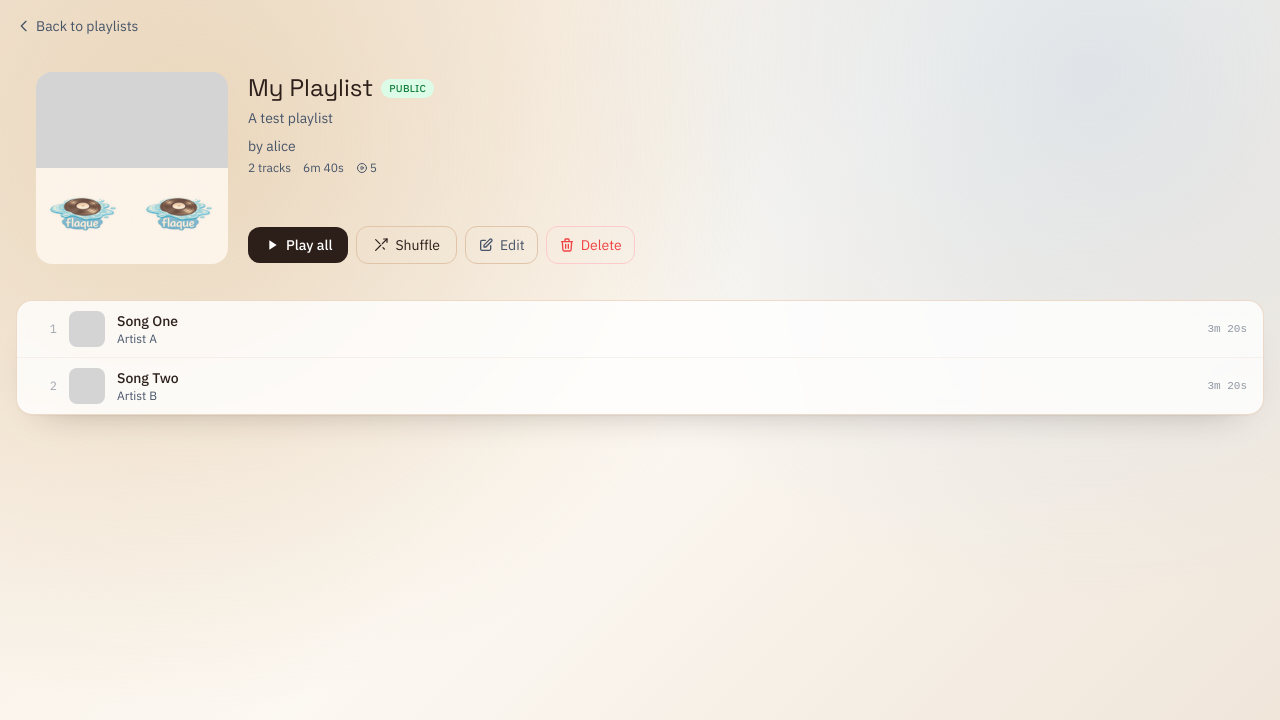
Scenario: PlaylistDetailView › inline edit cancel exits without saving
Click the button "Edit".
click(501, 245)  # box [465, 226, 538, 264]
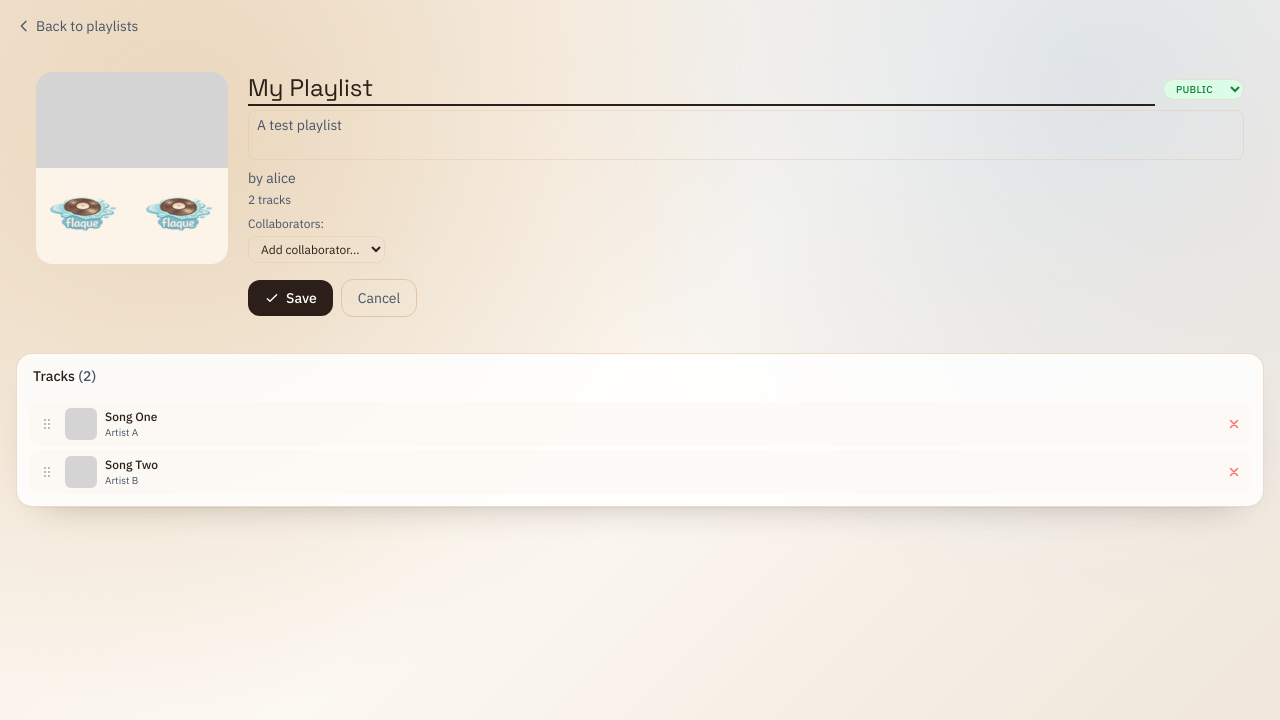
expect the button "Save" is shown: met, box [248, 280, 333, 316]
expect the button "Cancel" is shown: met
Click the button "Cancel".
click(379, 298)  # box [341, 279, 417, 317]
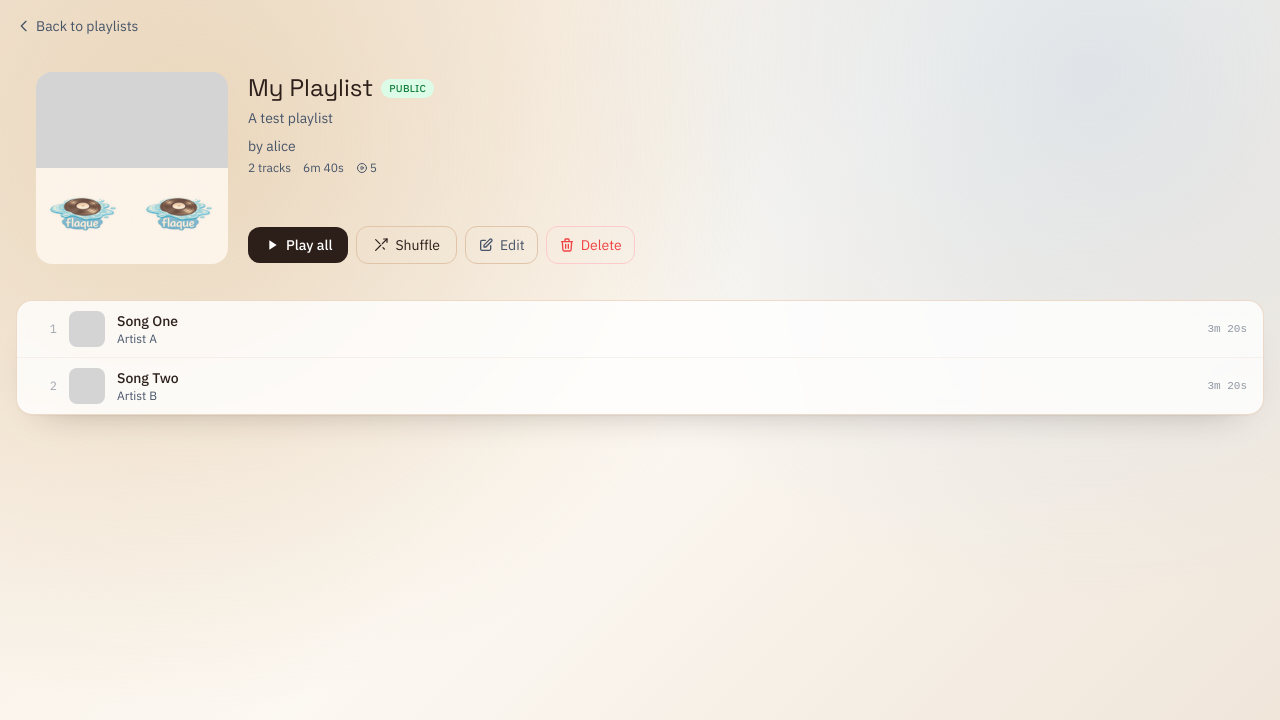
expect the button "Edit" is shown: met, box [465, 226, 538, 264]
expect the button "Save" is gone: met
